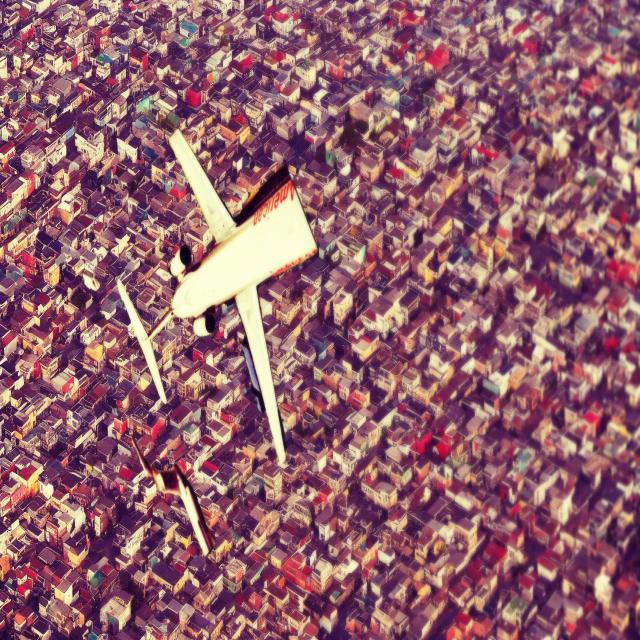airplane: (146, 126, 318, 465), (132, 436, 214, 556)
